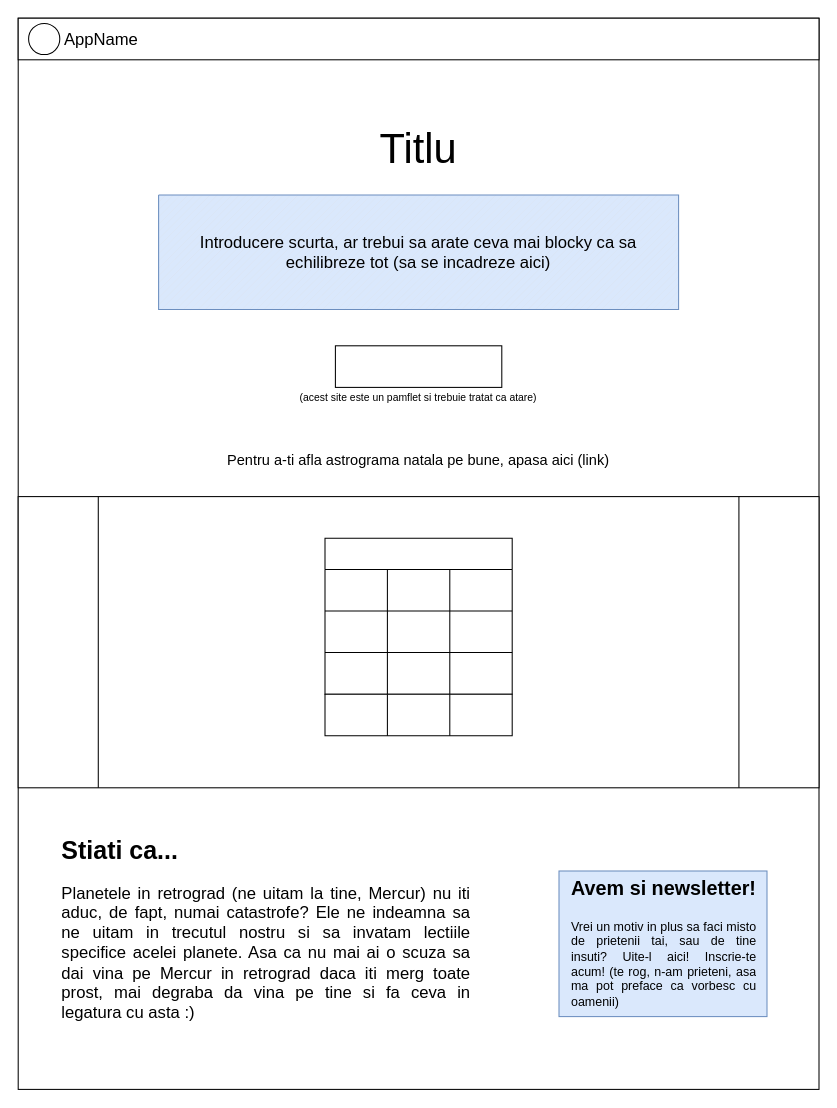
Image size: 837x1108. Some labels were removed from this diagram. The shapes that lost their labels are listed below. From the top down, each one's box as (x1, y1, x2, y2) in pixels, then its label:
(334, 345, 502, 387): Afla zodina ta acum!
(324, 537, 512, 694): Zodinele
